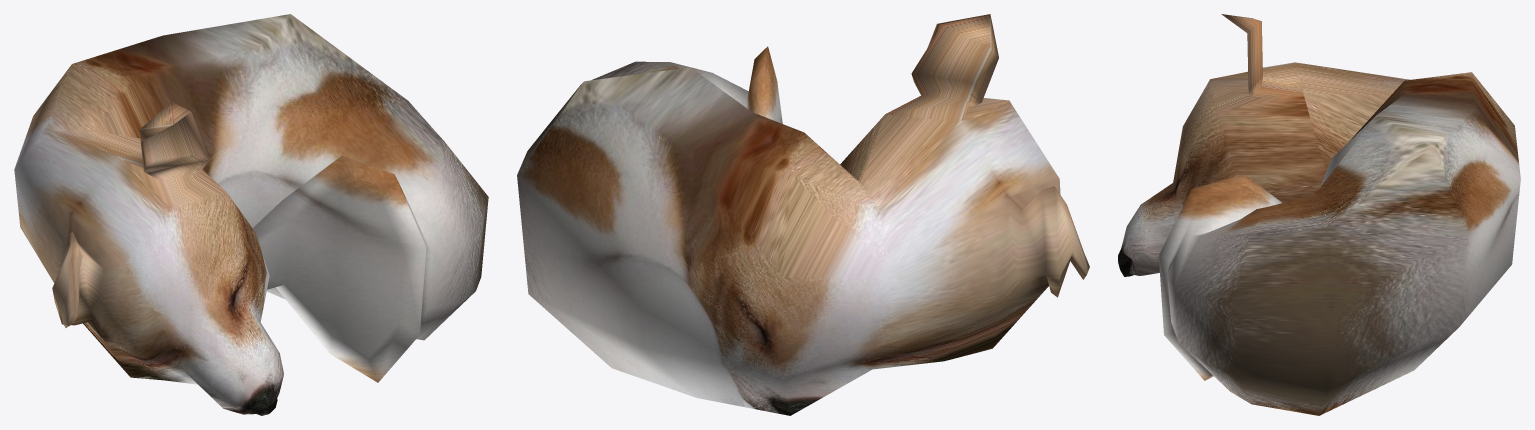
File: jack.glb
3 renders of one model, left to right at view 1: azimuth 30°, elevation 25°; view 2: azimuth 150°, elevation 25°; view 3: azimuth 270°, elevation 25°, orthographic. The views are drawn at different scales.
Visible parts, largest first — view 1: Circle.002; view 2: Circle.002; view 3: Circle.002.
Boxes of the visible parts, <box> form: Circle.002: <box>14,14,488,415</box>; Circle.002: <box>517,14,1089,415</box>; Circle.002: <box>1118,14,1520,415</box>.
Bounding box in the file's own units: 4.08 × 2.74 × 3.57.
Materials: 1 (1 with a texture image).
